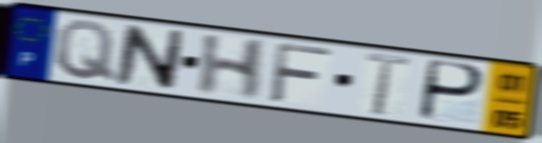F: (266, 40, 335, 107)
H: (193, 33, 271, 102)
N: (112, 22, 188, 93)
P: (415, 57, 487, 124)
Q: (53, 18, 118, 84)
T: (363, 49, 412, 118)
